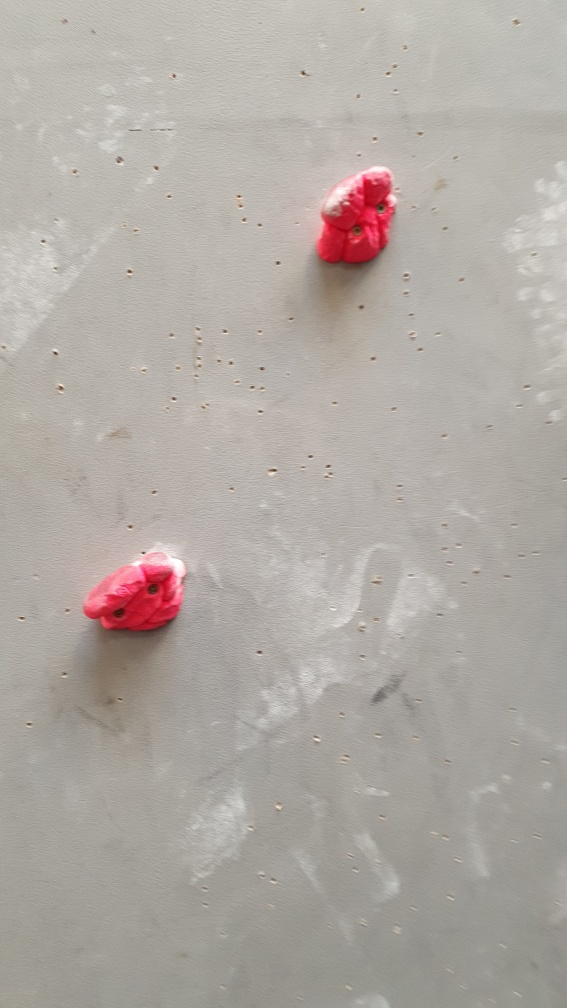Jug: (81, 546, 189, 639), (312, 164, 402, 268)
